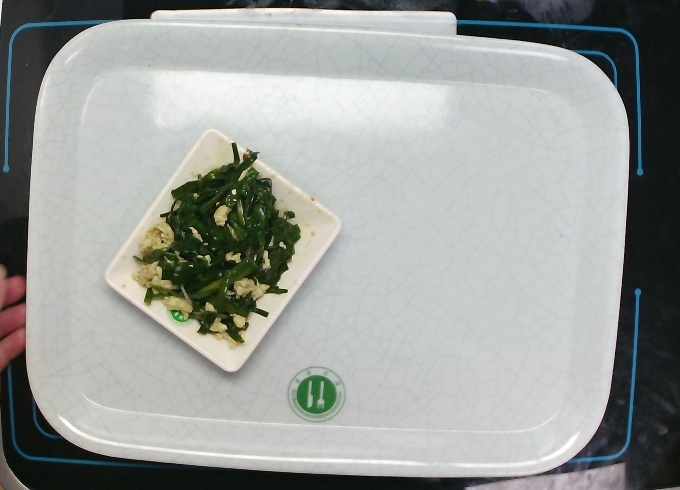WCQzf-Bai_Se_Si_Fang_Die: (100, 124, 347, 379)
